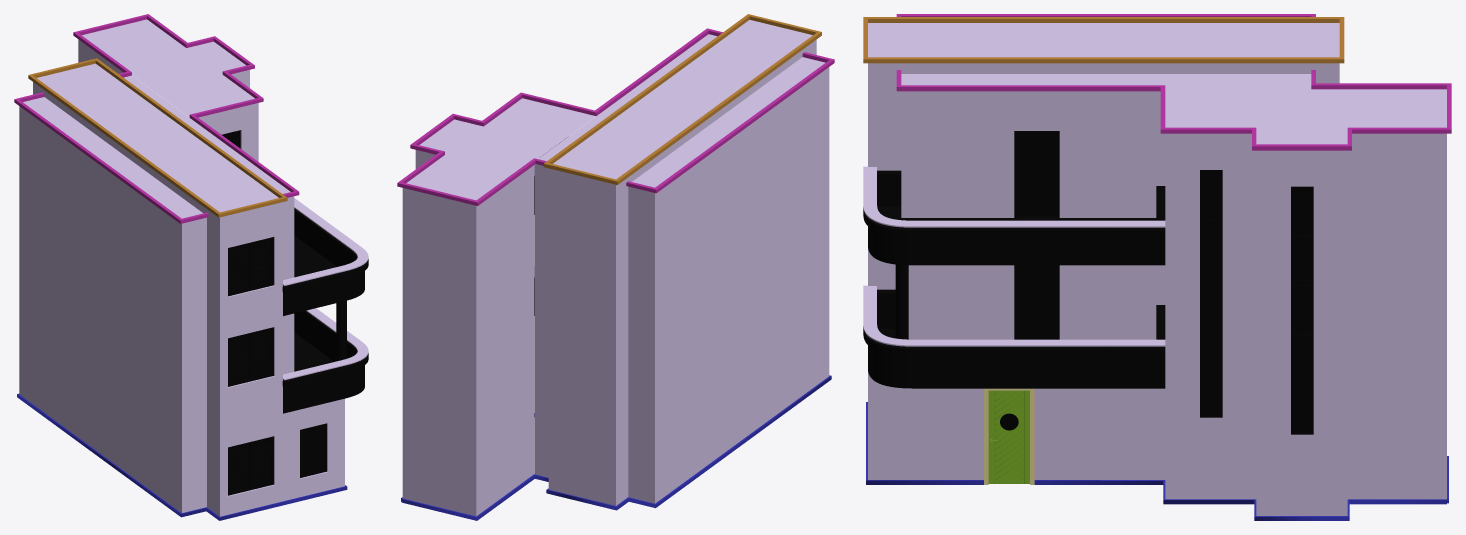
The model's file is electric.glb.
3 renders of one model, left to right at view 1: azimuth 30°, elevation 25°; view 2: azimuth 150°, elevation 25°; view 3: azimuth 270°, elevation 25°, orthographic. The views are drawn at different scales.
Visible parts, largest first — view 1: Box027, Object001, Box028, FixedWindow001 (×3), Box052, Box058, Line022, Line023, Object003, skirt001, rail001, FixedWindow004 (+4 smaller); view 2: Box027, Box028, Object001, Line022, Line023, Object003, Box026, skirt001, Box032; view 3: Box028, Object001, Object003, Box032, Box026, Box058, Box052, FixedWindow006 (×2), Box071, Line022, Line023, Shape531 (+5 smaller).
Part boxes in pixels (x1,y1,x2,y2): Box027: (19,97,206,512); Object001: (33,63,344,516); Box028: (78,19,258,161); FixedWindow001 (×3): (228,237,273,495); Box052: (282,208,368,315); Box058: (282,310,368,413); Line022: (14,14,299,223); Line023: (28,58,287,217); Object003: (124,75,294,279); skirt001: (17,393,347,520); rail001: (282,198,368,285); FixedWindow004: (300,423,326,477); Box027: (628,57,829,503); Box028: (402,98,595,516); Object001: (548,20,816,505); Line022: (397,28,834,205); Line023: (543,14,821,184); Object003: (534,34,716,274); Box026: (534,271,548,477); skirt001: (401,375,831,520); Box032: (415,119,482,168); Box028: (1165,89,1446,499); Object001: (868,23,1339,479); Object003: (901,74,1311,217); Box032: (1256,131,1347,515); Box026: (908,265,1165,339); Box058: (863,289,1165,388); Box052: (863,170,1165,265); FixedWindow006 (×2): (1200,170,1313,434); Box071: (1014,131,1059,339); Line022: (896,14,1451,150); Line023: (863,17,1344,63); Shape531: (988,390,1029,483).
Size of the model in its own units: 6.88 by 9.4 by 12.91.
